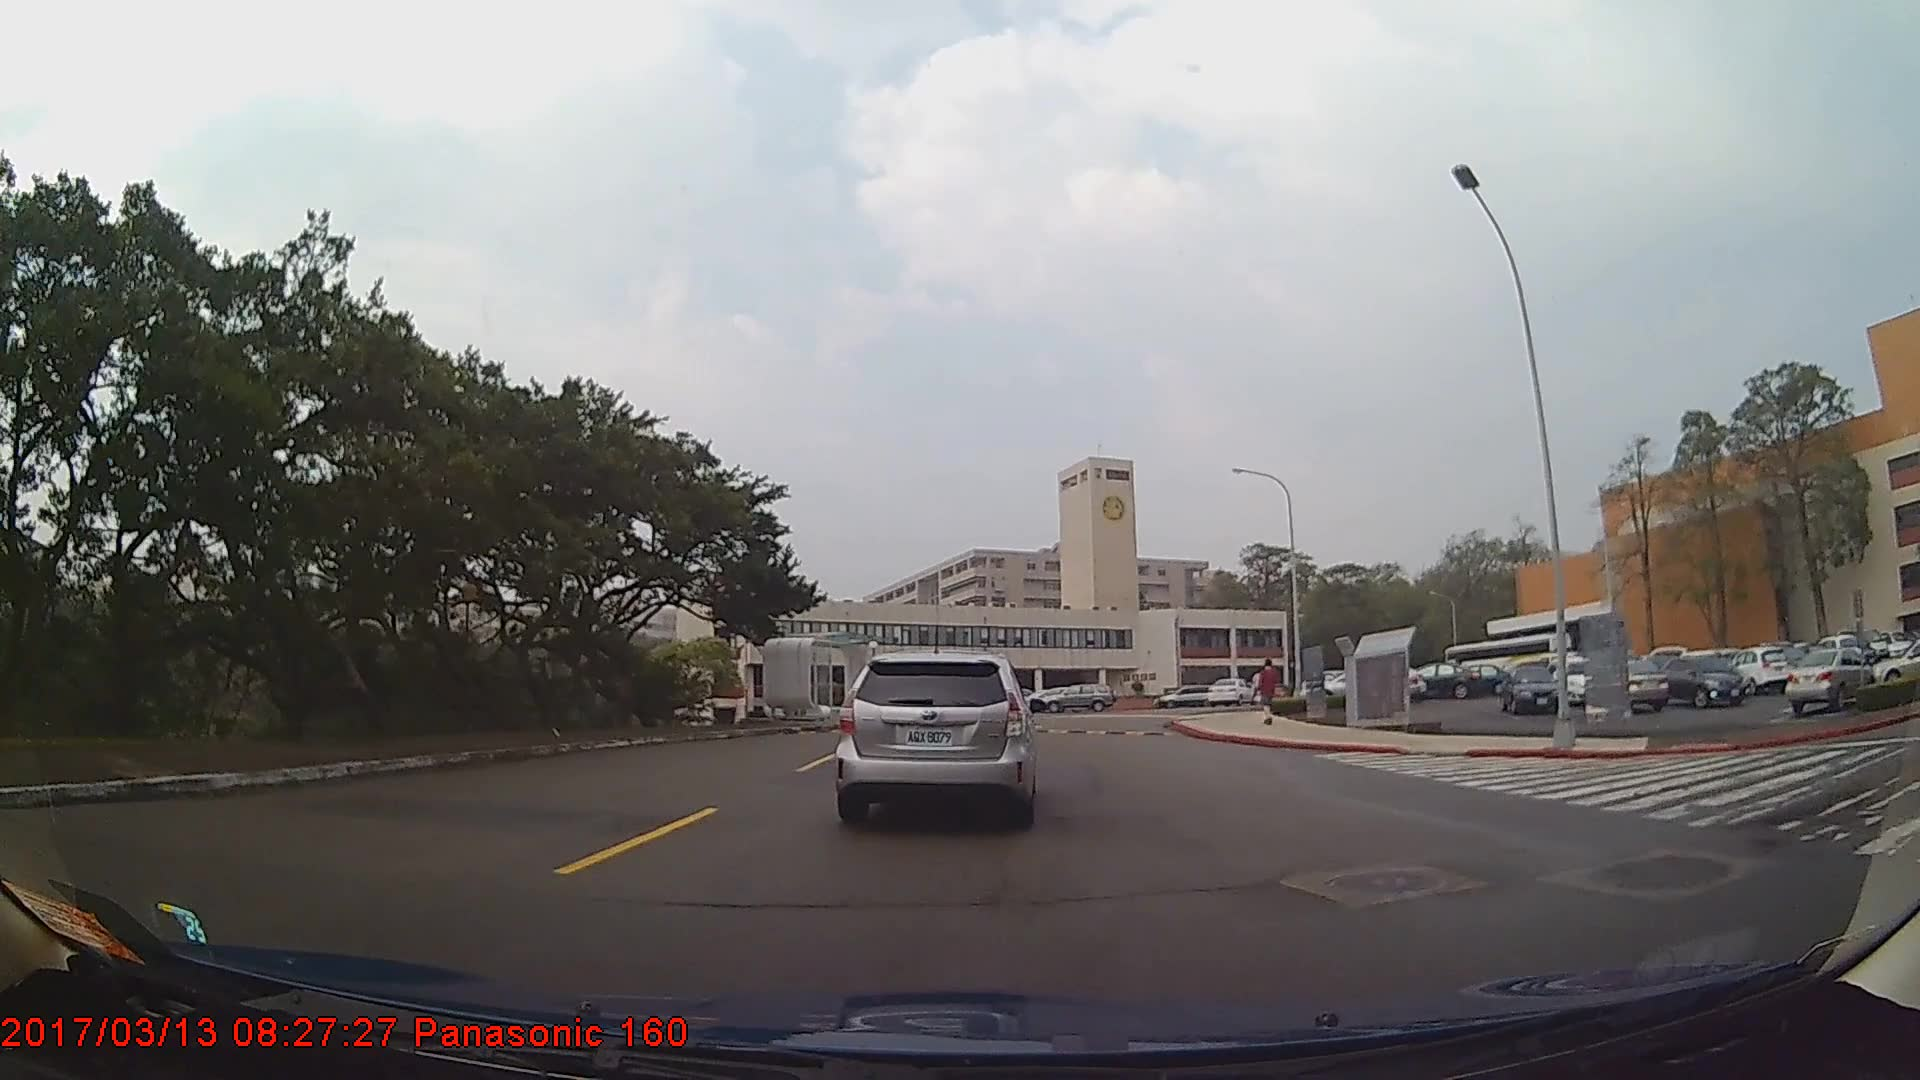pedestrian: (1257, 658, 1280, 726)
vehicle: (831, 646, 1037, 831), (1785, 646, 1874, 714), (1657, 653, 1745, 707), (1499, 662, 1563, 715), (1610, 657, 1668, 713), (1727, 645, 1789, 695), (1406, 662, 1482, 698), (1036, 682, 1113, 714), (1870, 637, 1920, 685), (1205, 678, 1257, 707), (1155, 684, 1211, 708)
